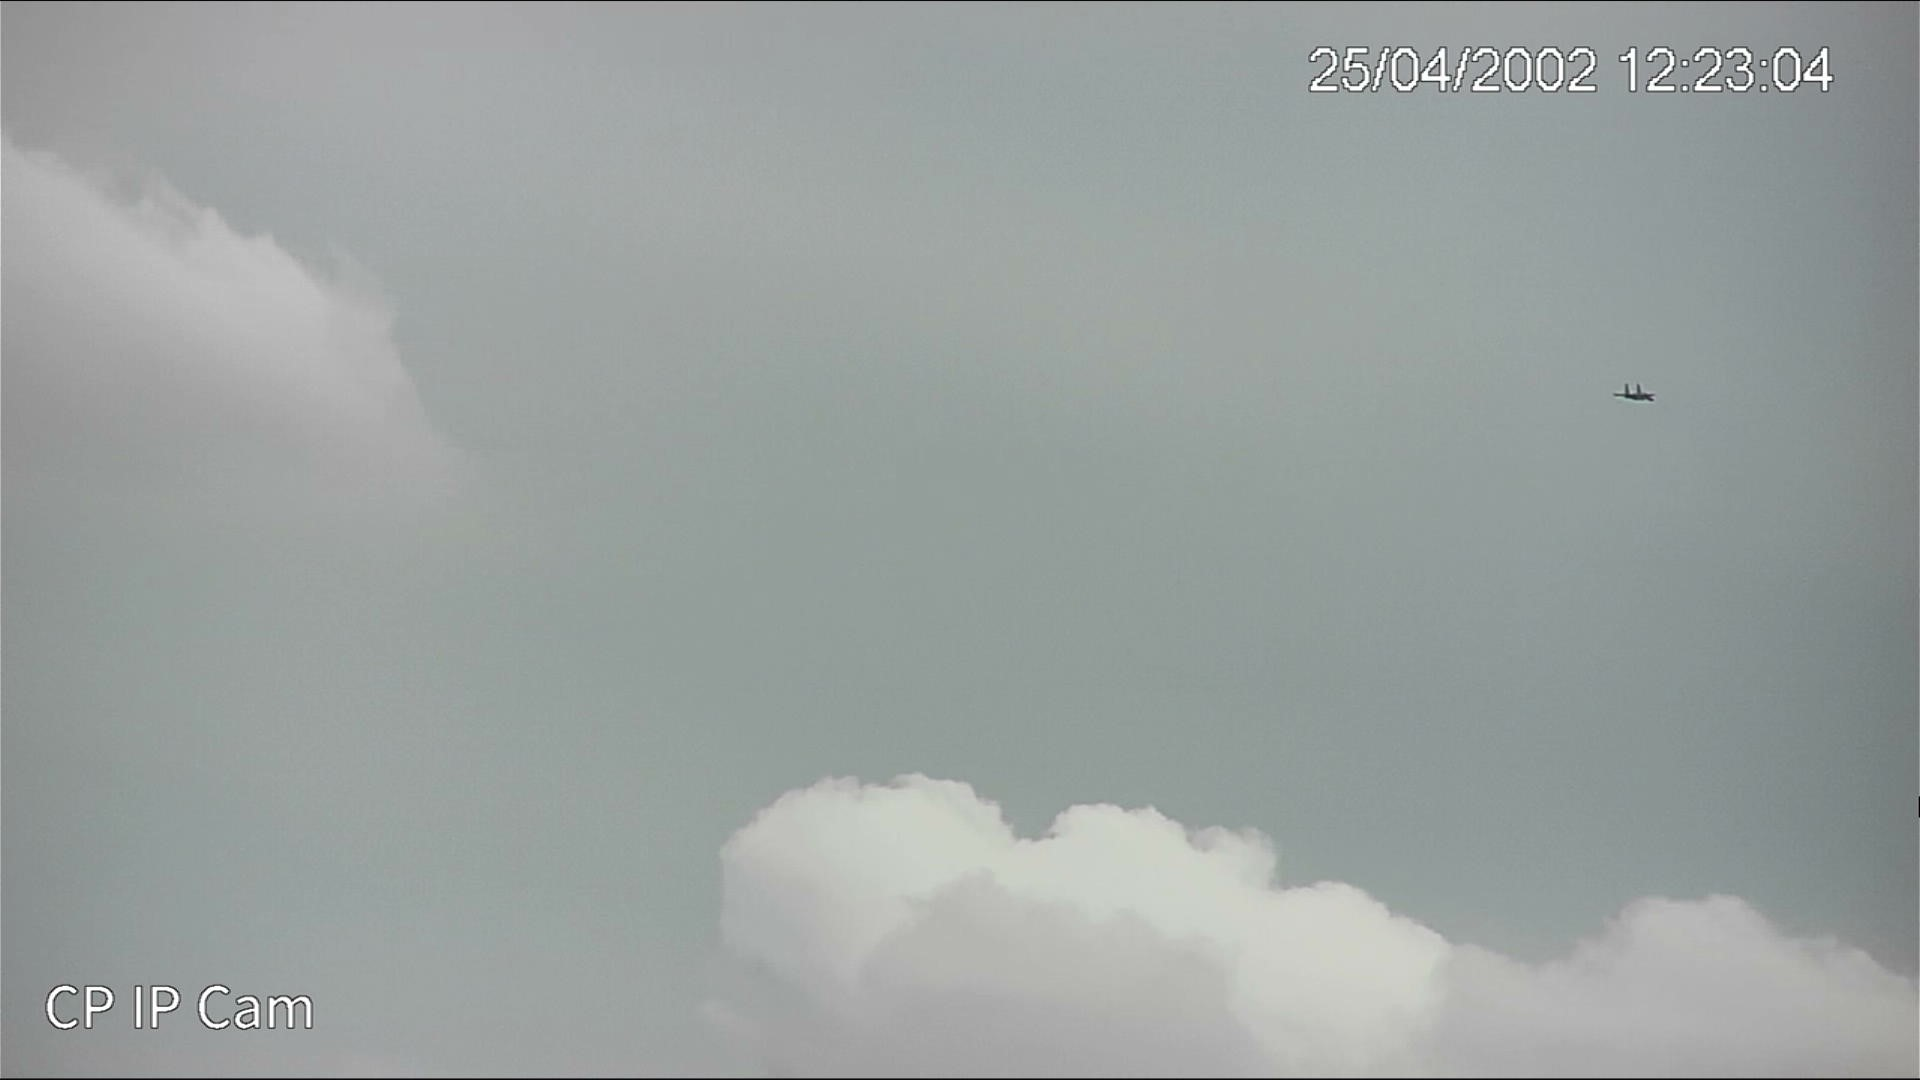SU_30: (1613, 382, 1658, 406)
